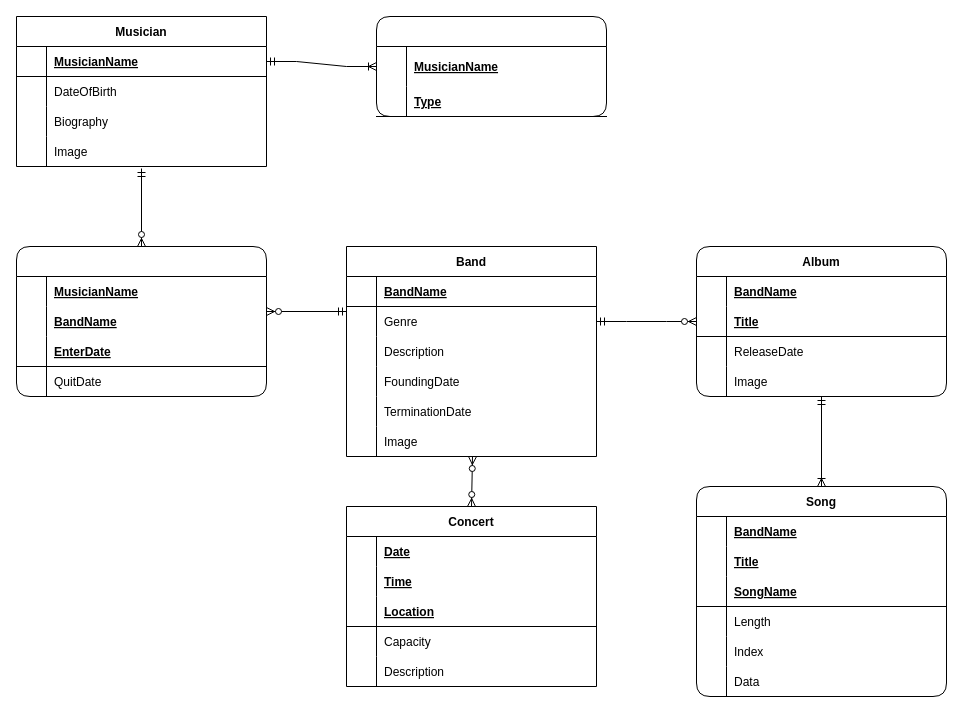
This 963x713 diagram has some shape labels left out. Here are the shapes that lost their labels. From the top down, the box of each, then its label:
(376, 16, 606, 116): Instrument
(16, 246, 266, 396): Membership
